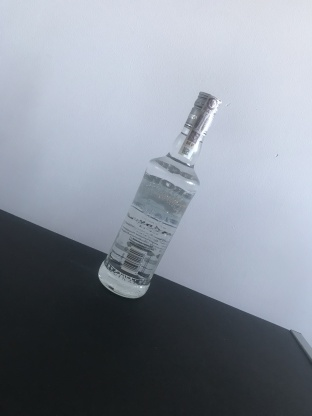nakretka: (182, 88, 223, 138)
